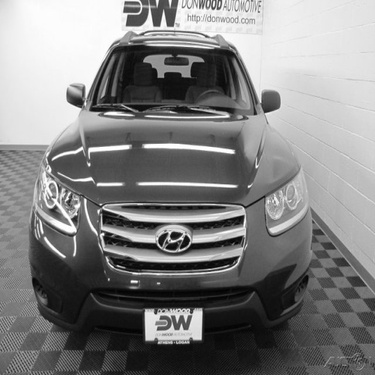car: (23, 28, 330, 330)
